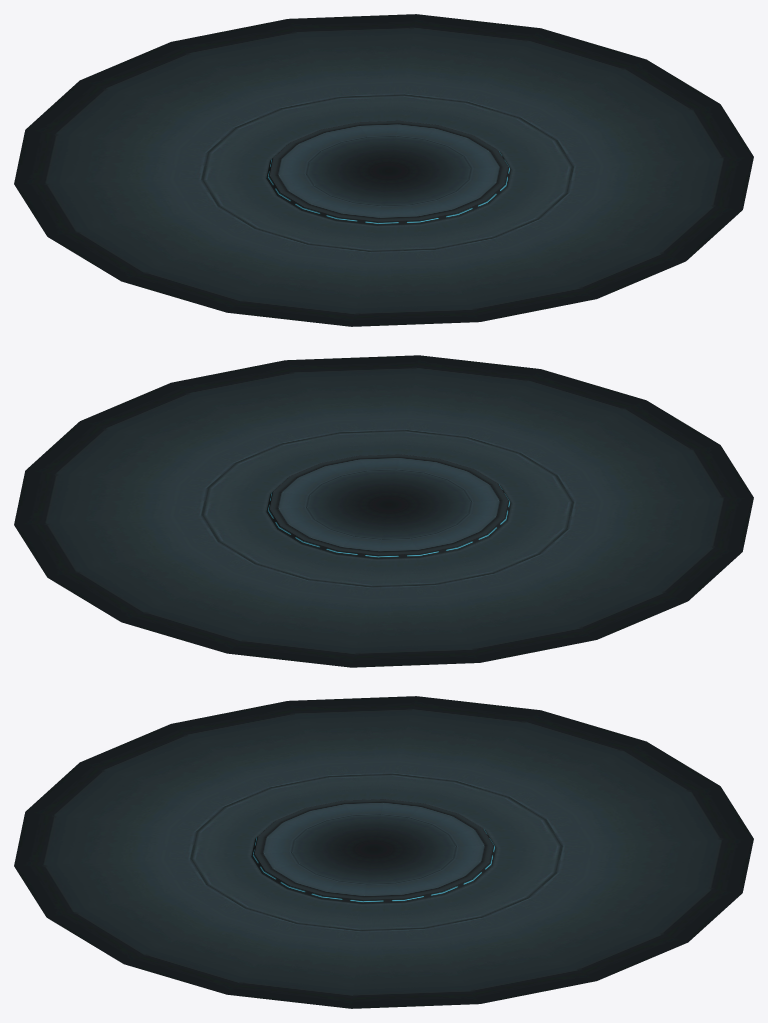
The model's file is ts_ntp_dm01.FBX.
3 renders of one model, top to bottom at view 1: azimuth 30°, elevation 25°; view 2: azimuth 150°, elevation 25°; view 3: azimuth 270°, elevation 25°, orthographic.
Visible parts, largest first — view 1: ts_ntp_dm01; view 2: ts_ntp_dm01; view 3: ts_ntp_dm01.
Boxes of the visible parts, x1=… form: ts_ntp_dm01: x1=14, y1=14, x2=753, y2=326; ts_ntp_dm01: x1=14, y1=355, x2=753, y2=667; ts_ntp_dm01: x1=14, y1=696, x2=753, y2=1008.
Size of the model in its own units: 21.03 by 0.0952 by 21.03.
1 material, 1 textured.
